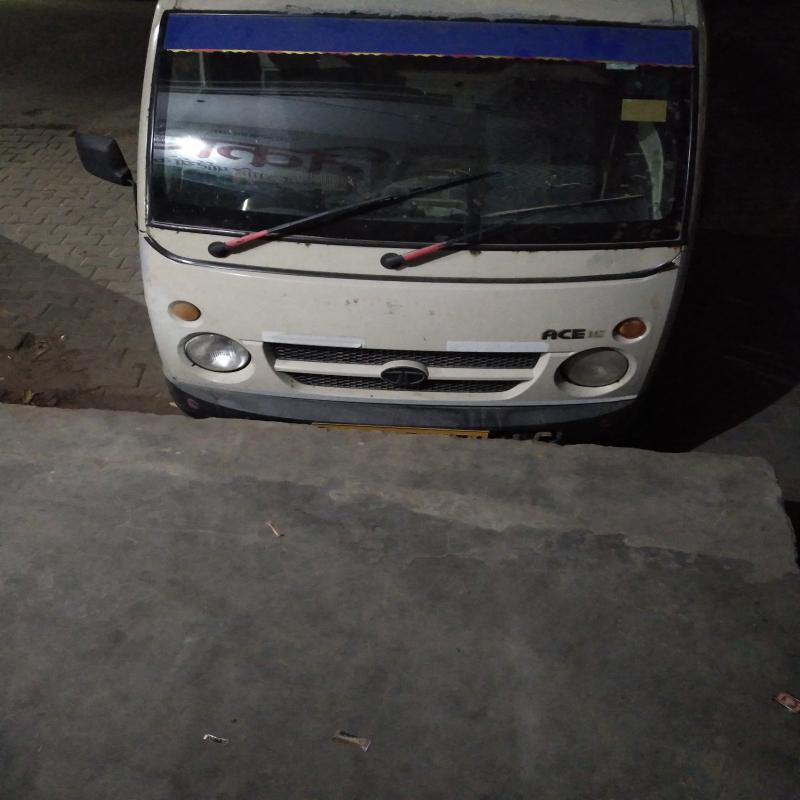bus: (145, 3, 681, 439)
